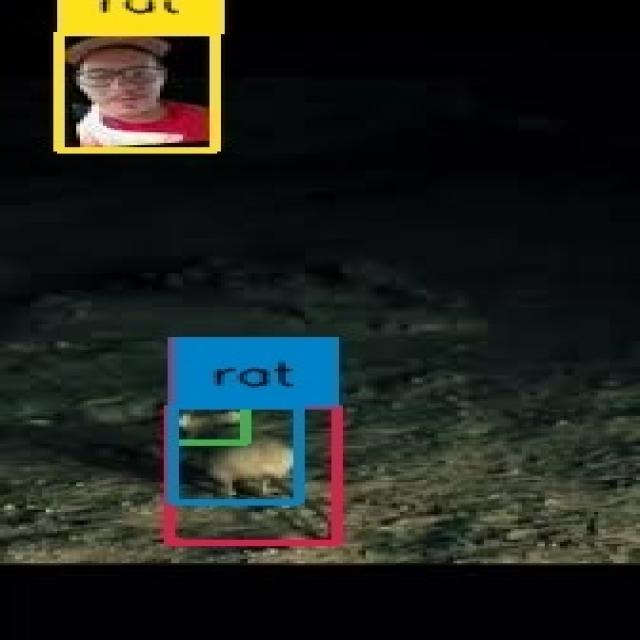rat: (172, 406, 336, 543), (59, 33, 215, 150), (173, 408, 299, 502), (172, 408, 248, 442)
